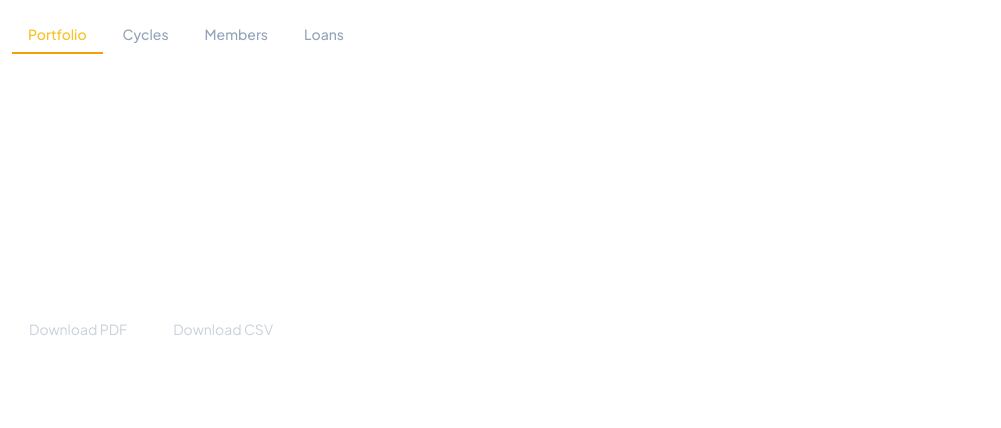
ReportsPage › Cycles tab shows cycle summary cards and dividend table after loading
Click the tab "Cycles".
click(146, 35)  # box [107,16,185,54]
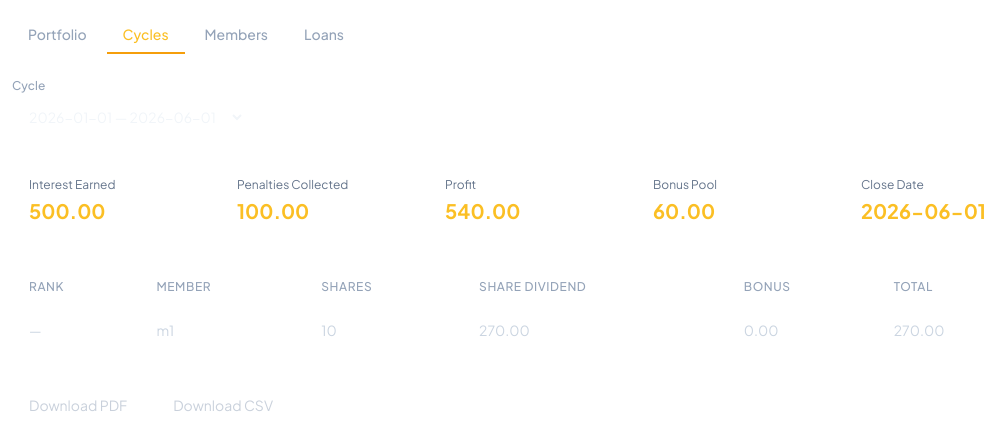
expect the text "Interest Earned" is shown: met, box [29,177,116,192]
expect the text "500.00" is shown: met, box [29,198,106,223]
